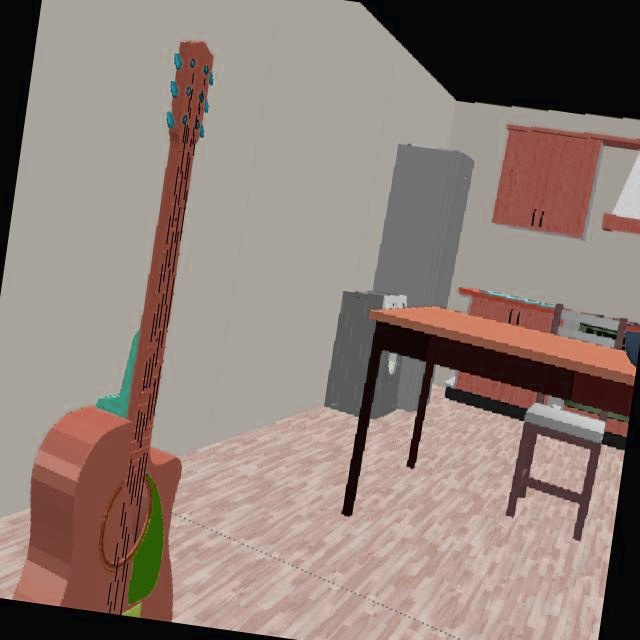fridge: (371, 144, 475, 310), (396, 357, 426, 413)
